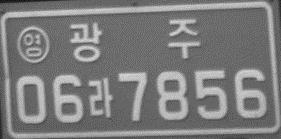0: (14, 74, 47, 124)
5: (193, 69, 229, 120)
6: (234, 68, 268, 119), (52, 73, 83, 123)
7: (117, 71, 148, 120)
8: (156, 71, 190, 121)
광주_D: (69, 19, 201, 62)
라: (86, 77, 114, 118)
영: (16, 26, 50, 64)
